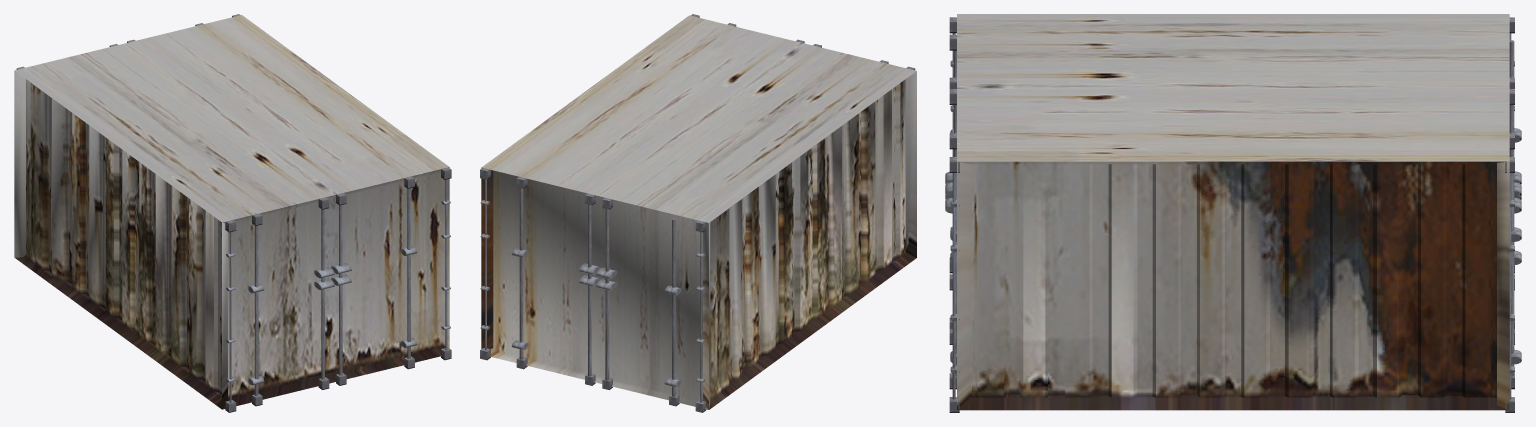
Rendered from container_white.obj.
3 views of the same model, side by side, from view 1: azimuth 30°, elevation 25°; view 2: azimuth 150°, elevation 25°; view 3: azimuth 270°, elevation 25° (orthographic). The views are drawn at different scales.
Visible parts, largest first — view 1: container, pasted__pCylinder1 rohr_2, pasted__pasted__pCylinder1 pasted__group5 rohr_5, rohr_3, pasted__pCylinder1 rohr_4, pasted__pasted__pasted__pCylinder1 pasted__pasted__group5 pasted, pasted__pasted__pasted__pasted__pCylinder1 pasted__pasted__paste; view 2: container, pasted__rohr_3 group5, group5 pasted__pasted__pasted__pCylinder1 pasted__pasted__group5, group5 pasted__pasted__pCylinder1 pasted__rohr_2, group5 pasted__pasted__pCylinder1 pasted__rohr_4, group5 pasted__pasted__pasted__pasted__pasted__pCylinder1 pasted; view 3: container, pasted__pasted__pasted__pCylinder1 pasted__pasted__group5 pasted, group5 pasted__pasted__pasted__pCylinder1 pasted__pasted__group5, group5 pasted__pasted__pasted__pasted__pCylinder1 pasted__pasted.
Part boxes in pixels (bbox=[...]): container: bbox=[14, 15, 449, 409]; pasted__pCylinder1 rohr_2: bbox=[254, 225, 258, 395]; pasted__pasted__pCylinder1 pasted__group5 rohr_5: bbox=[407, 188, 410, 358]; rohr_3: bbox=[321, 209, 324, 379]; pasted__pCylinder1 rohr_4: bbox=[339, 205, 342, 375]; pasted__pasted__pasted__pCylinder1 pasted__pasted__group5 pasted: bbox=[445, 179, 447, 350]; pasted__pasted__pasted__pasted__pCylinder1 pasted__pasted__paste: bbox=[229, 232, 231, 402]; container: bbox=[481, 15, 916, 409]; pasted__rohr_3 group5: bbox=[605, 209, 609, 380]; group5 pasted__pasted__pasted__pCylinder1 pasted__pasted__group5: bbox=[519, 188, 523, 359]; group5 pasted__pasted__pCylinder1 pasted__rohr_2: bbox=[672, 218, 675, 396]; group5 pasted__pasted__pCylinder1 pasted__rohr_4: bbox=[588, 204, 591, 376]; group5 pasted__pasted__pasted__pasted__pasted__pCylinder1 pasted: bbox=[700, 232, 702, 402]; container: bbox=[957, 14, 1509, 410]; pasted__pasted__pasted__pCylinder1 pasted__pasted__group5 pasted: bbox=[952, 173, 955, 399]; group5 pasted__pasted__pasted__pCylinder1 pasted__pasted__group5: bbox=[1509, 149, 1514, 376]; group5 pasted__pasted__pasted__pasted__pCylinder1 pasted__pasted: bbox=[1509, 173, 1511, 399].
Bounding box in the file's own units: 13.93 × 11.08 × 22.99.
